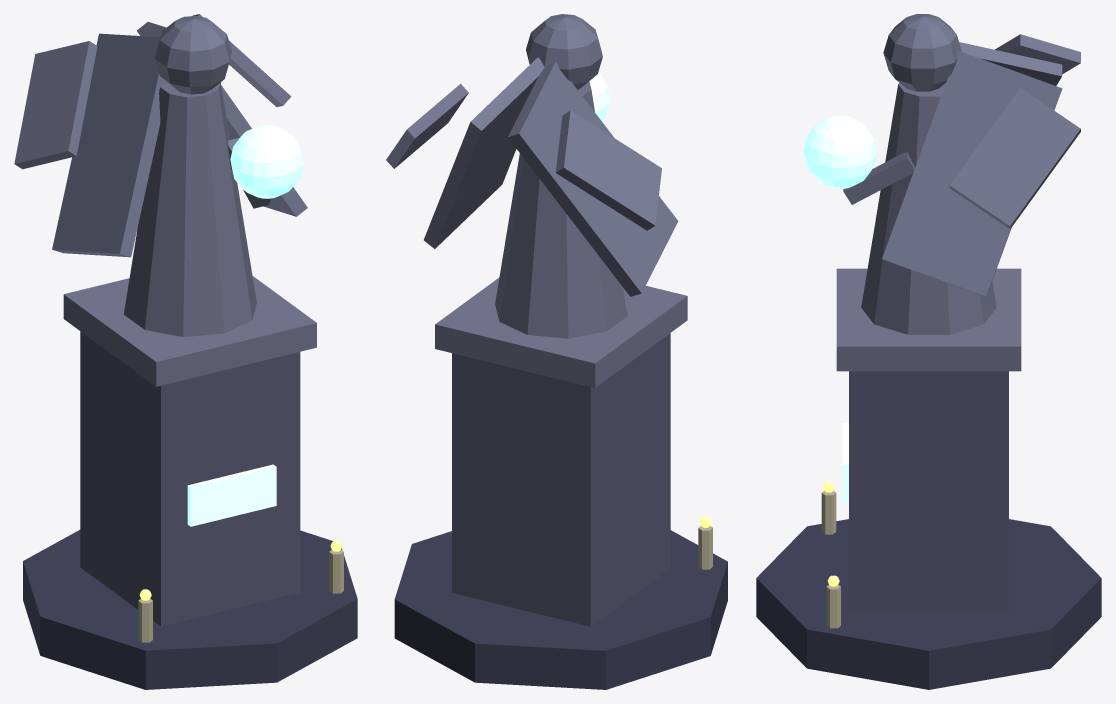
File: monitoring-angel-statue.glb
3 renders of one model, left to right at view 1: azimuth 30°, elevation 25°; view 2: azimuth 150°, elevation 25°; view 3: azimuth 270°, elevation 25°, orthographic.
Visible parts, largest first — view 1: cw_paint, cw_neon; view 2: cw_paint, cw_neon; view 3: cw_paint, cw_neon.
Boxes of the visible parts, x1,y1,x2,y2 form: cw_paint: (14,14,357,689); cw_neon: (187,124,303,526); cw_paint: (386,14,727,689); cw_neon: (589,73,610,120); cw_paint: (756,14,1101,689); cw_neon: (803,115,877,503).
Bounding box in the file's own units: 2.8 × 5.37 × 2.8.
